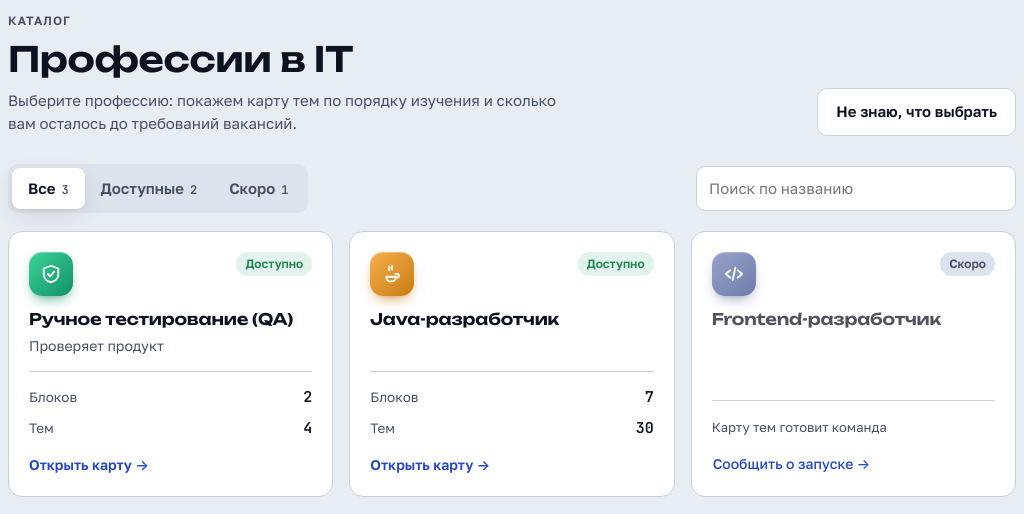
it: CatalogPage › гость подписывается на запуск профессии «скоро» по почте
Click the button "Сообщить о запуске →" at (853, 464), box [712,452,995,476]
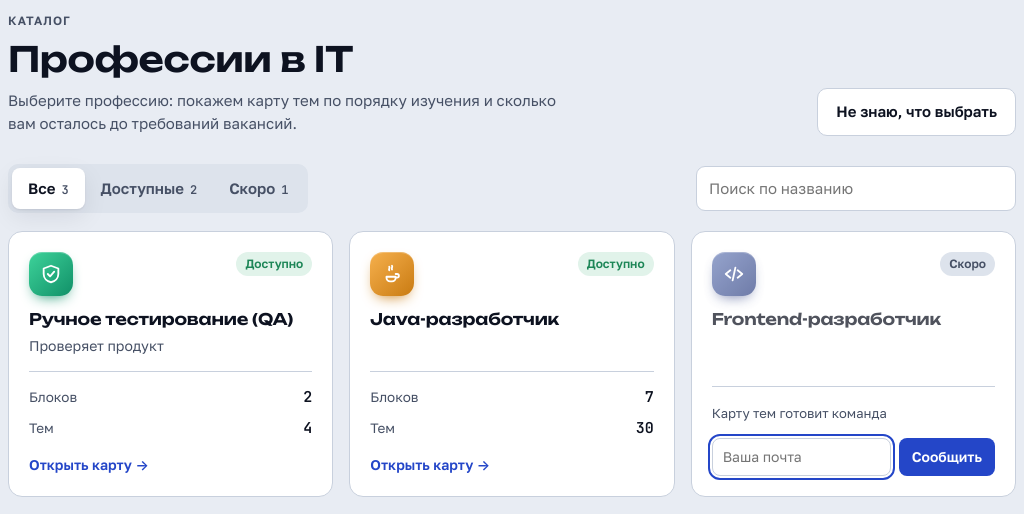
Click the button "Сообщить" at (947, 457), box [899,438,995,476]
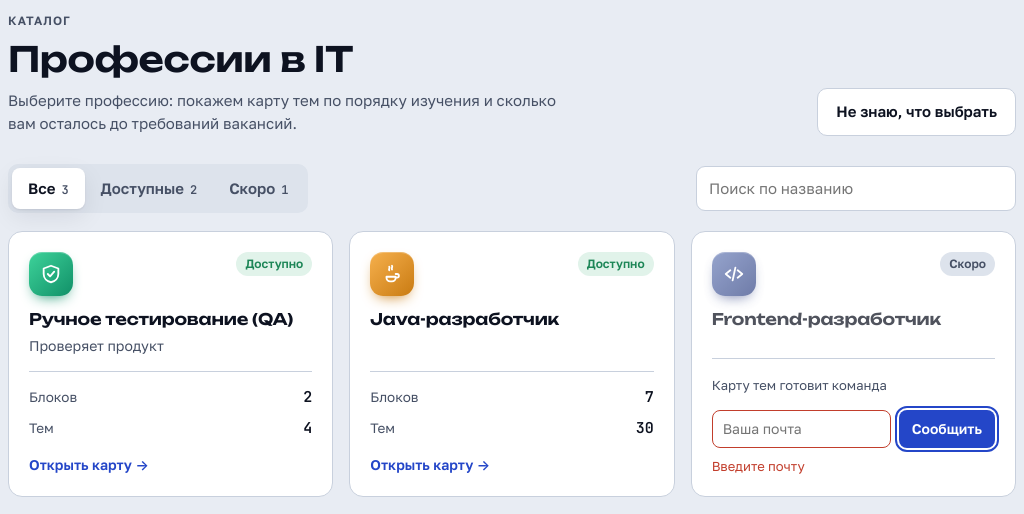
Expected: the field named "Почта для уведомления" is marked as invalid
Type "ivan@example.ru" into the field named "Почта для уведомления" at (801, 429), box [712,410,891,448]
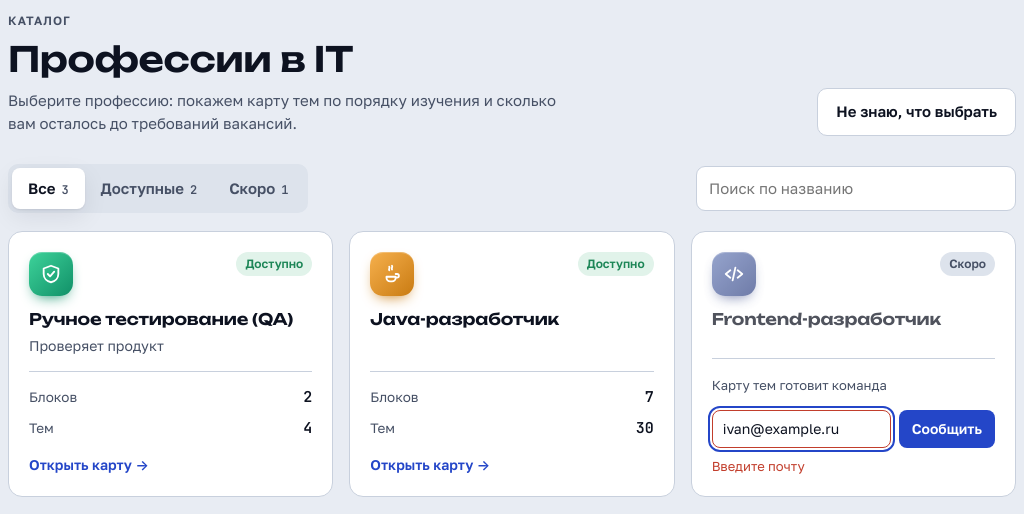
Click the button "Сообщить" at (947, 429), box [899,410,995,448]
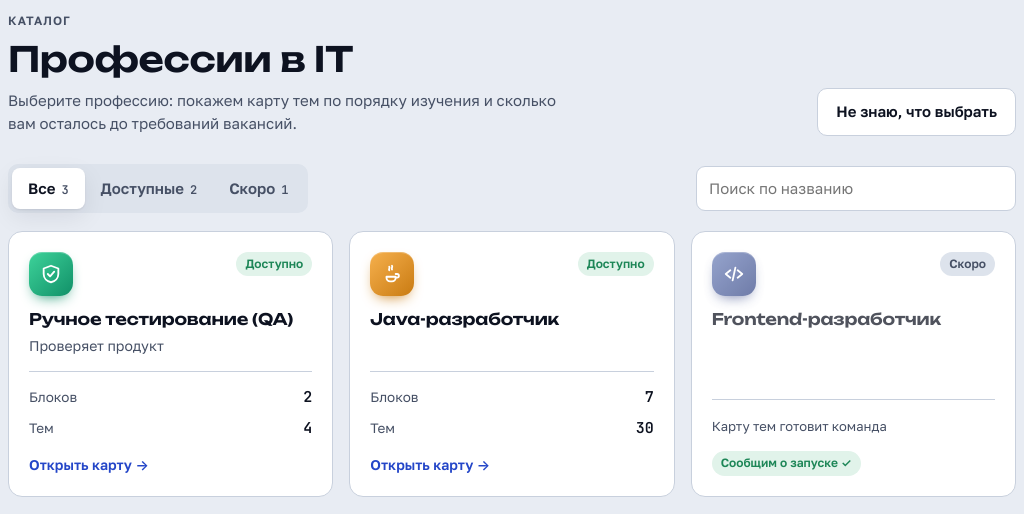
Expected: the text "Сообщим о запуске ✓" is shown, [712,451,861,476]
